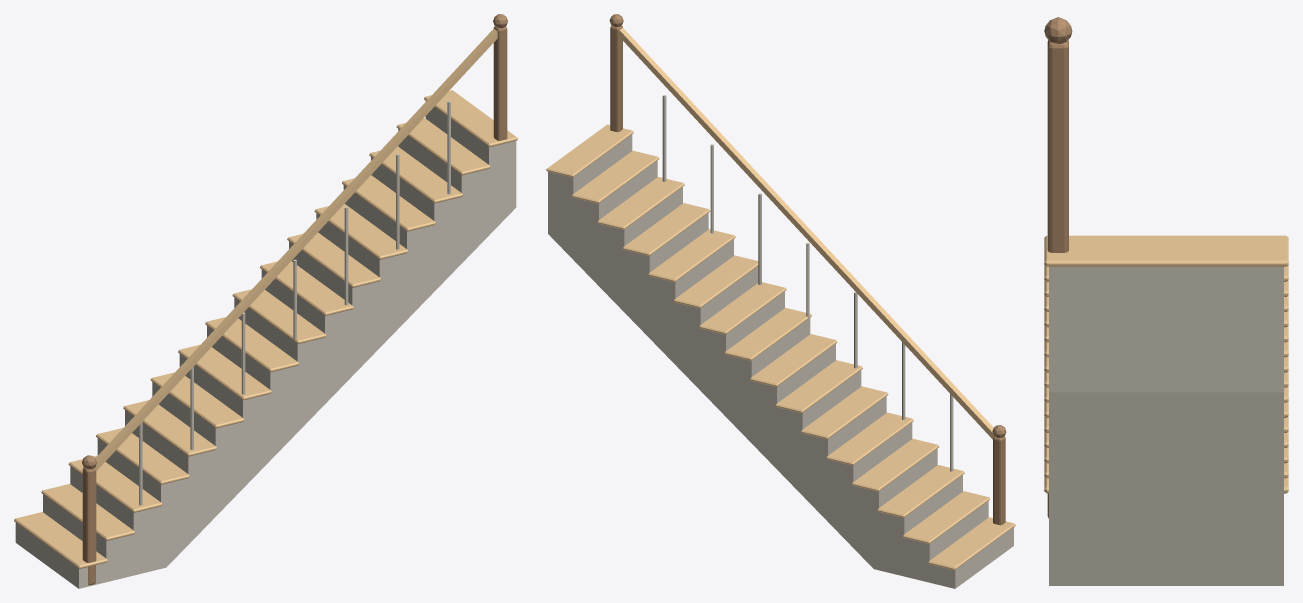
File: cozy-home-interiors-stair-flight-200d2331.glb
3 renders of one model, left to right at view 1: azimuth 30°, elevation 25°; view 2: azimuth 150°, elevation 25°; view 3: azimuth 270°, elevation 25°, orthographic. The views are drawn at different scales.
Parts seen in each view (by area): view 1: stair-flight; view 2: stair-flight; view 3: stair-flight.
Boxes of the visible parts, left/top/right/bottom form: stair-flight: left=14, top=14, right=517, bottom=588; stair-flight: left=546, top=14, right=1015, bottom=588; stair-flight: left=1044, top=17, right=1288, bottom=585.
Size of the model in its own units: 4.02 by 4.1 by 1.04.
